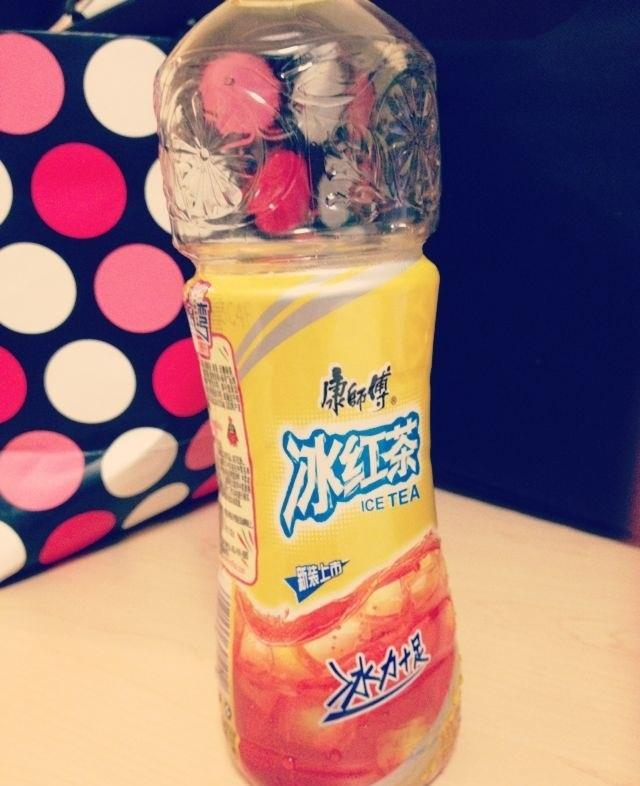iced_black_tea: (186, 256, 476, 778)
